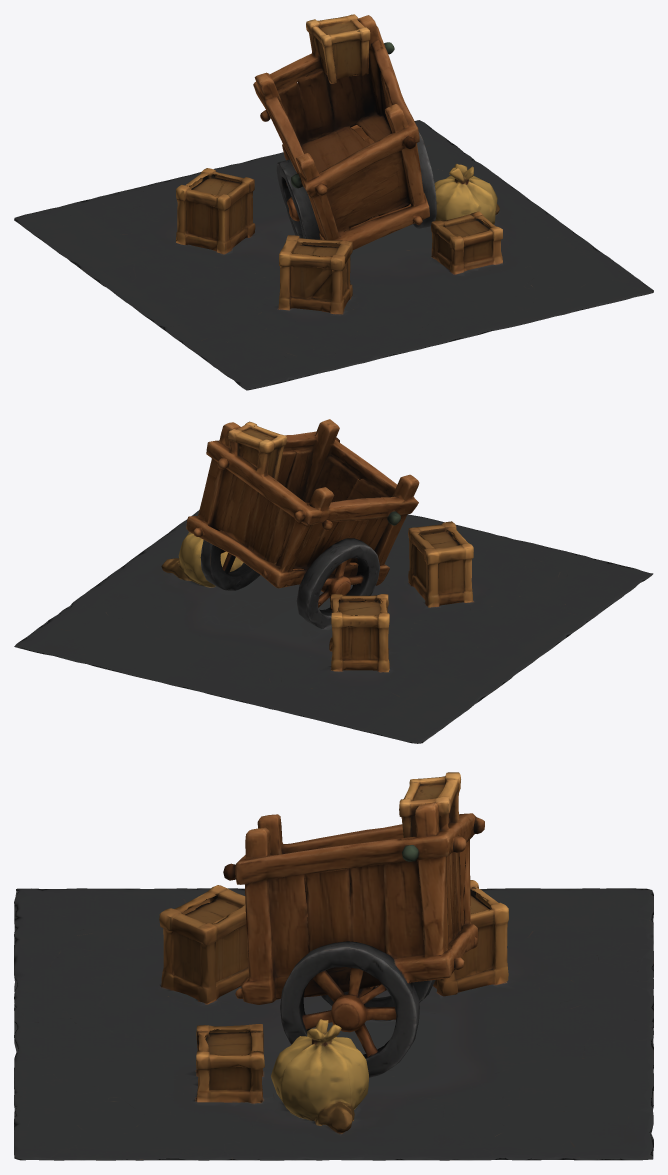
File: broken_cart_t1.glb
The picture shows the model from 3 angles, top to bottom: view 1: azimuth 30°, elevation 25°; view 2: azimuth 150°, elevation 25°; view 3: azimuth 270°, elevation 25°; orthographic projection. The views are drawn at different scales.
Parts seen in each view (by area): view 1: geometry_0; view 2: geometry_0; view 3: geometry_0.
Boxes of the visible parts, x1,y1,x2,y2 form: geometry_0: (14,14,653,390); geometry_0: (14,419,653,743); geometry_0: (14,772,653,1160).
Size of the model in its own units: 1 by 0.4626 by 1.
1 material, 1 textured.
